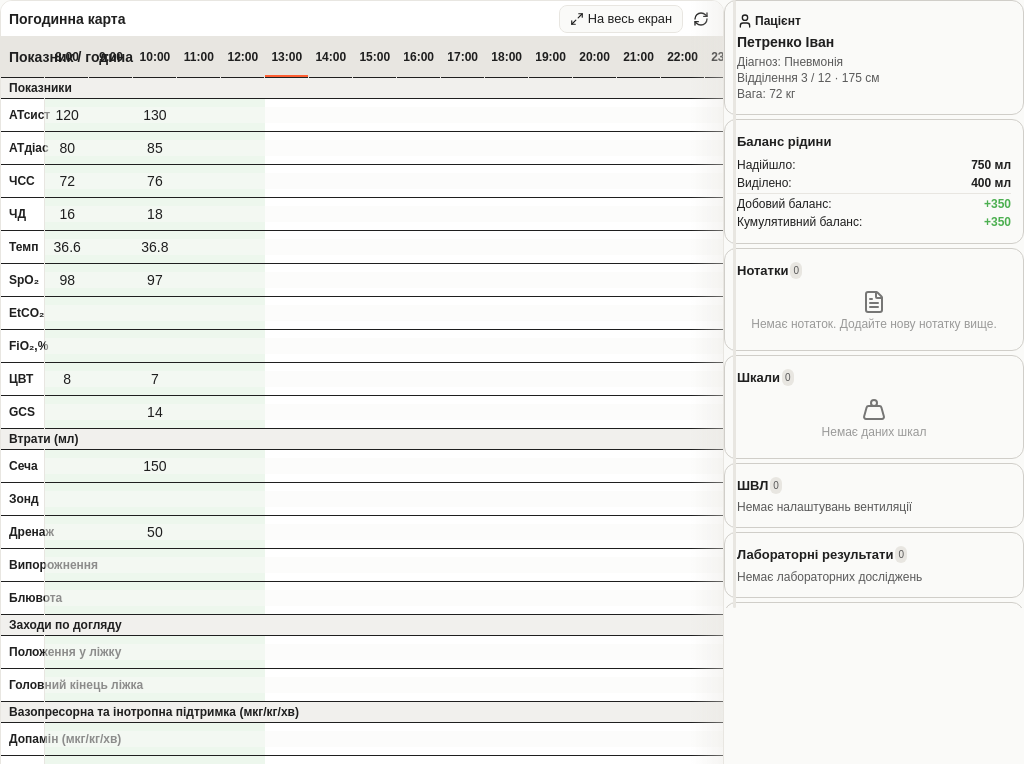
Test case: IntensiveCareCard › Fullscreen modal trigger and locked modal grid (issue #141) › disables modal grid cells when the day is locked
Click the button with aria-label "Розгорнути на весь екран": (621, 18) [559, 4, 683, 32]
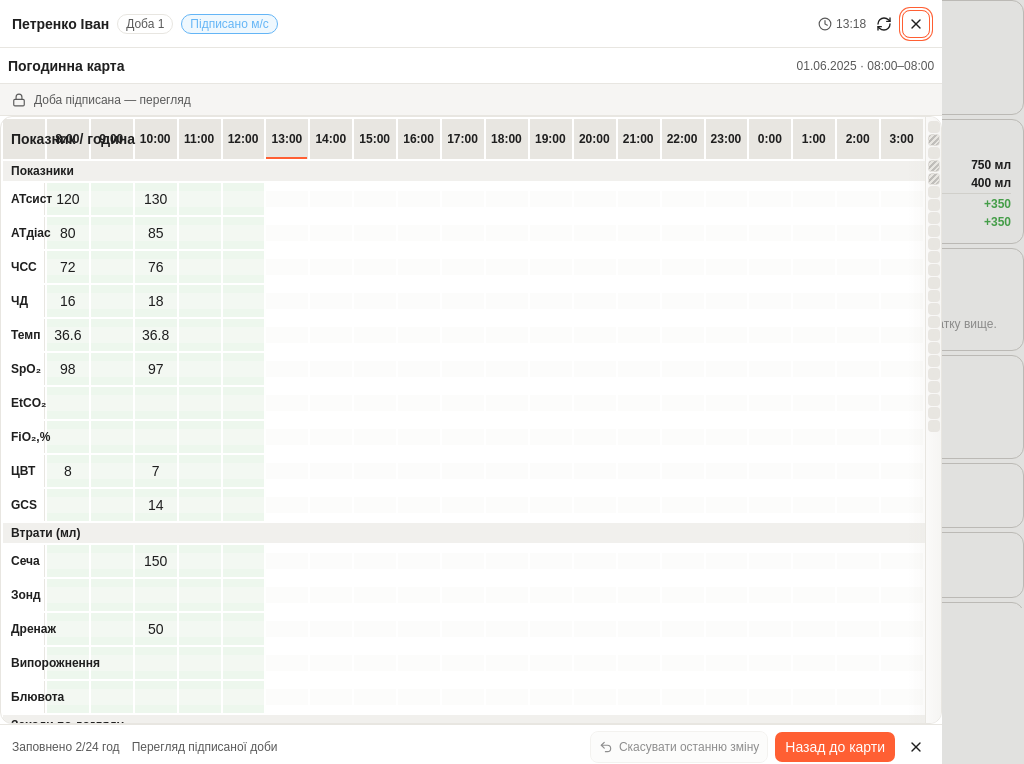
expect the number of number fields showing "72" is 2: met, box [46, 172, 89, 188]; [47, 259, 89, 275]
expect the 2nd number field showing "72" is disabled: met, box [47, 259, 89, 275]
